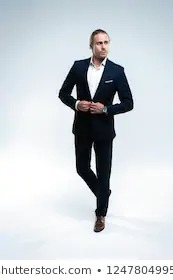F_dress pants: (72, 112, 114, 216)
